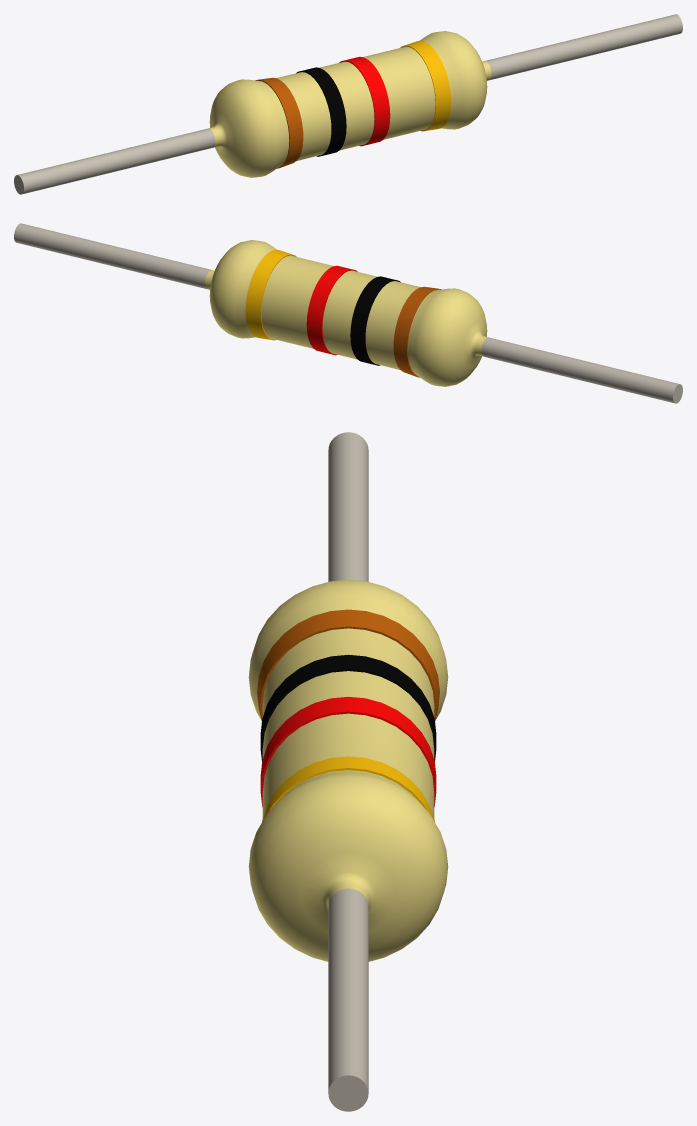
The model's file is Resistor.fbx.
3 views of the same model, one above another, from view 1: azimuth 30°, elevation 25°; view 2: azimuth 150°, elevation 25°; view 3: azimuth 270°, elevation 25° (orthographic). The views are drawn at different scales.
Parts seen in each view (by area): view 1: Body, Strip4, Strip3, Strip2, Strip1; view 2: Body, Strip4, Strip3, Strip2, Strip1; view 3: Body, Strip1, Strip3, Strip2, Strip4.
Part boxes in pixels (x1,y1,x2,y2): Body: (14, 14, 682, 194); Strip4: (400, 40, 451, 131); Strip3: (339, 56, 390, 146); Strip2: (296, 67, 346, 156); Strip1: (255, 77, 303, 168); Body: (14, 223, 682, 403); Strip4: (245, 249, 296, 340); Strip3: (306, 265, 357, 355); Strip2: (350, 276, 400, 365); Strip1: (393, 286, 441, 377); Body: (248, 432, 448, 1111); Strip1: (257, 609, 439, 721); Strip3: (260, 696, 436, 807); Strip2: (260, 654, 436, 761); Strip4: (262, 756, 434, 821).
Size of the model in its own units: 25.8 by 3.38 by 3.38.
